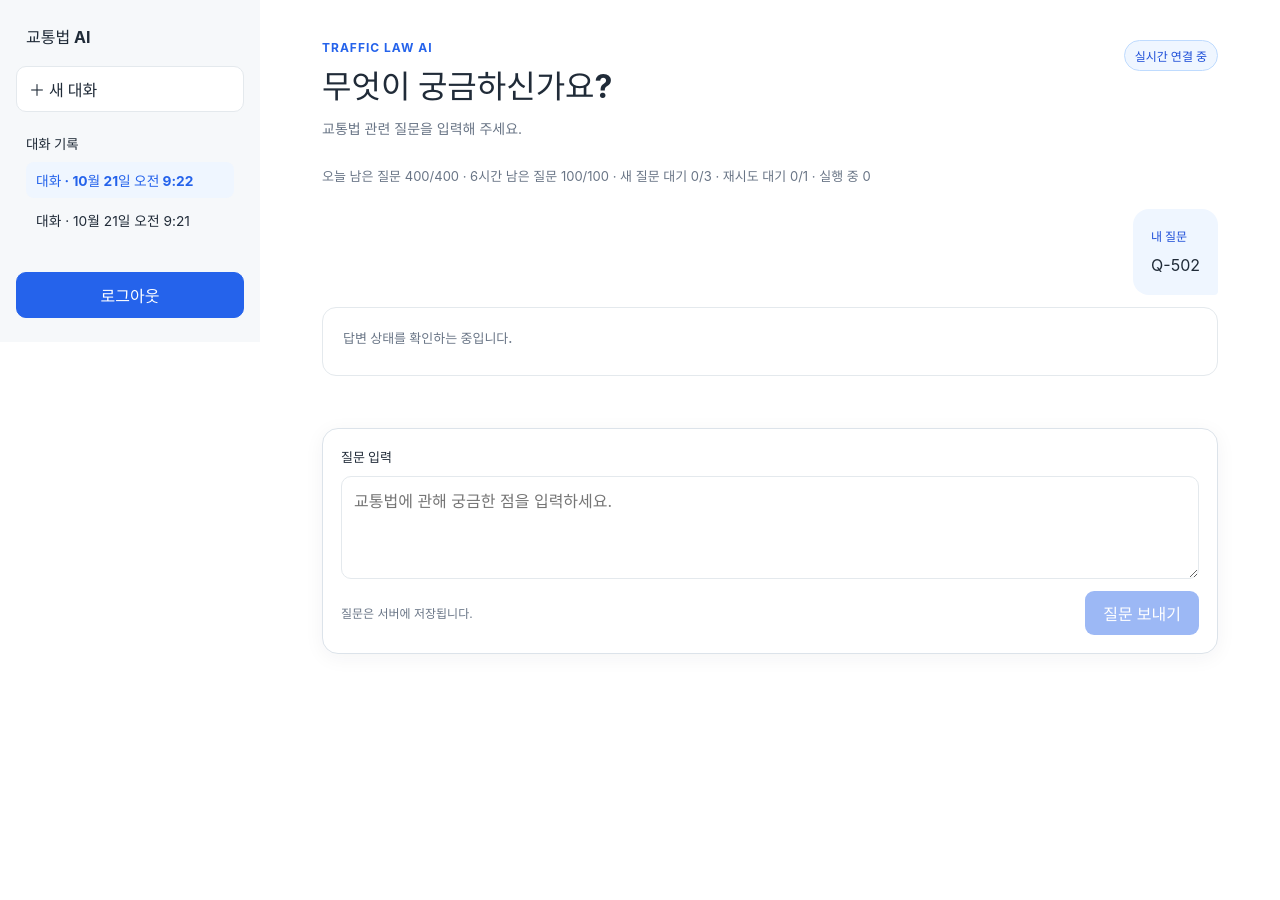
대화를 빠르게 바꾸면 이전 대화의 조회를 끊고, 늦게 도착한 이전 이력이 지금 대화를 덮어쓰지 않는다
Check: the text "Q-502" is shown, box [1151,253,1200,279]
Click the 3rd button. click: x=130, y=220
box: [26,202,234,238]
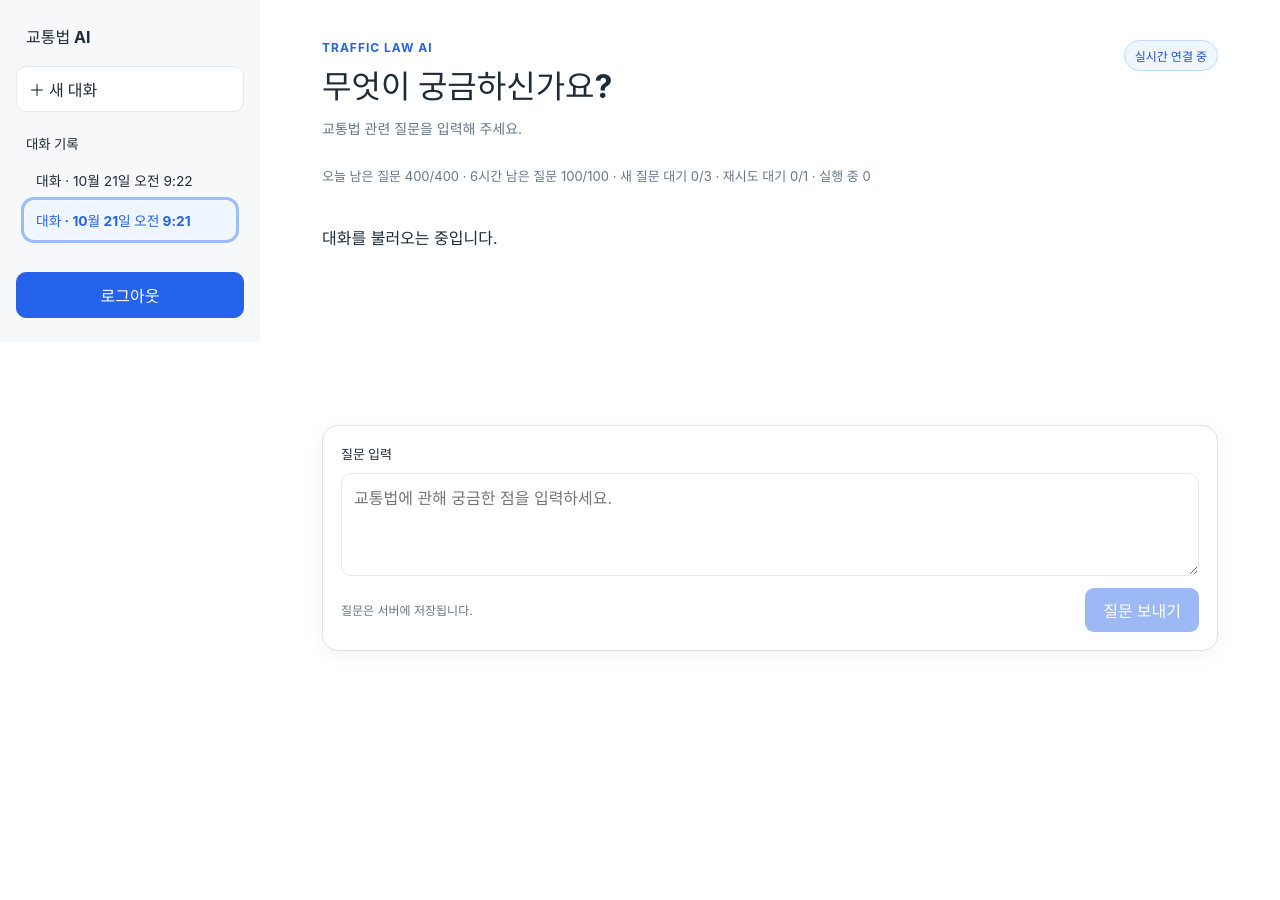
Click the 2nd button. click: x=130, y=180
box: [26,162,234,198]
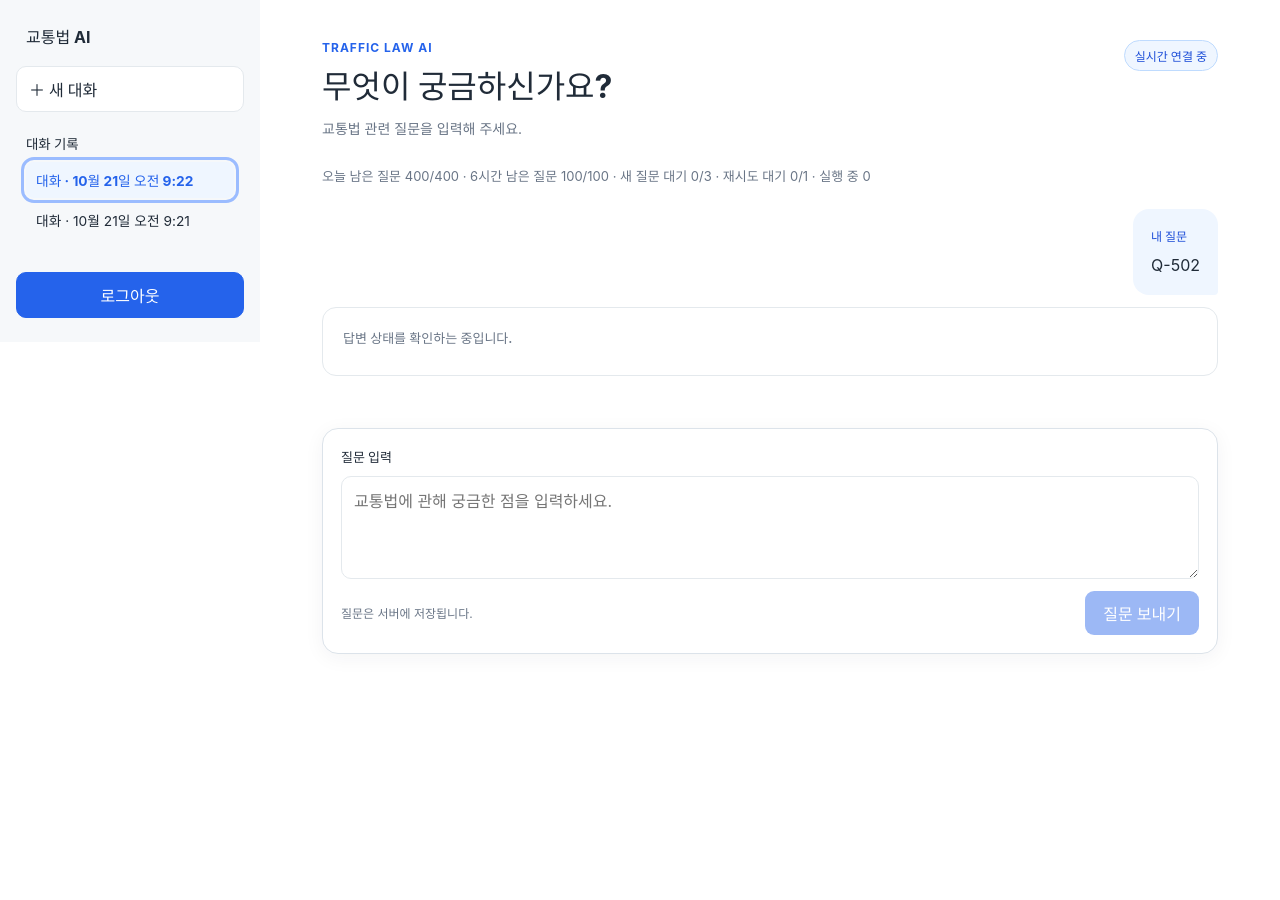
Check: the text "Q-502" is shown, box [1151,253,1200,279]
